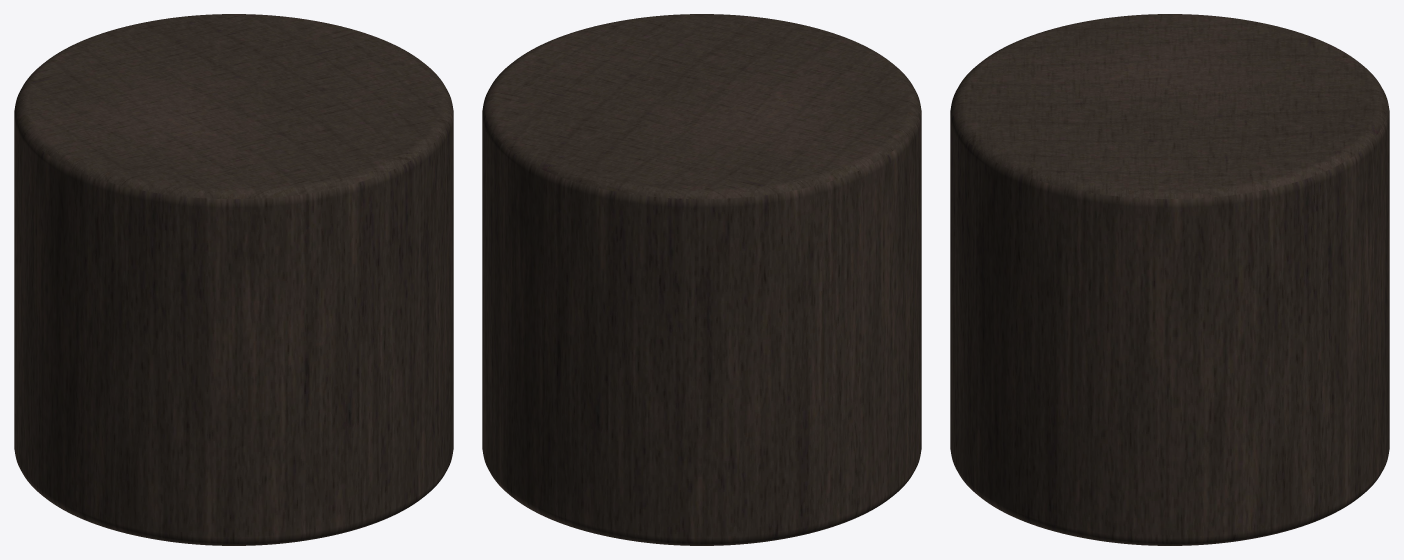
Rendered from pawn-black.glb.
3 views of the same model, side by side, from view 1: azimuth 30°, elevation 25°; view 2: azimuth 150°, elevation 25°; view 3: azimuth 270°, elevation 25° (orthographic).
Parts seen in each view (by area): view 1: Cylindra_Pěšec_černý; view 2: Cylindra_Pěšec_černý; view 3: Cylindra_Pěšec_černý.
Boxes of the visible parts, box(x1,y1,x2,y2) form: Cylindra_Pěšec_černý: box(14, 14, 453, 545); Cylindra_Pěšec_černý: box(482, 14, 921, 545); Cylindra_Pěšec_černý: box(950, 14, 1389, 545).
Bounding box in the file's own units: 0.4928 × 0.44 × 0.4928.
Materials: 2 (2 with a texture image).
